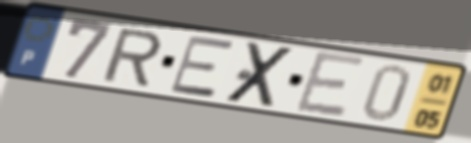0: (359, 62, 413, 124)
7: (63, 15, 115, 81)
E: (292, 48, 369, 120), (166, 35, 236, 101)
R: (99, 27, 165, 89)
X: (221, 40, 299, 110)
